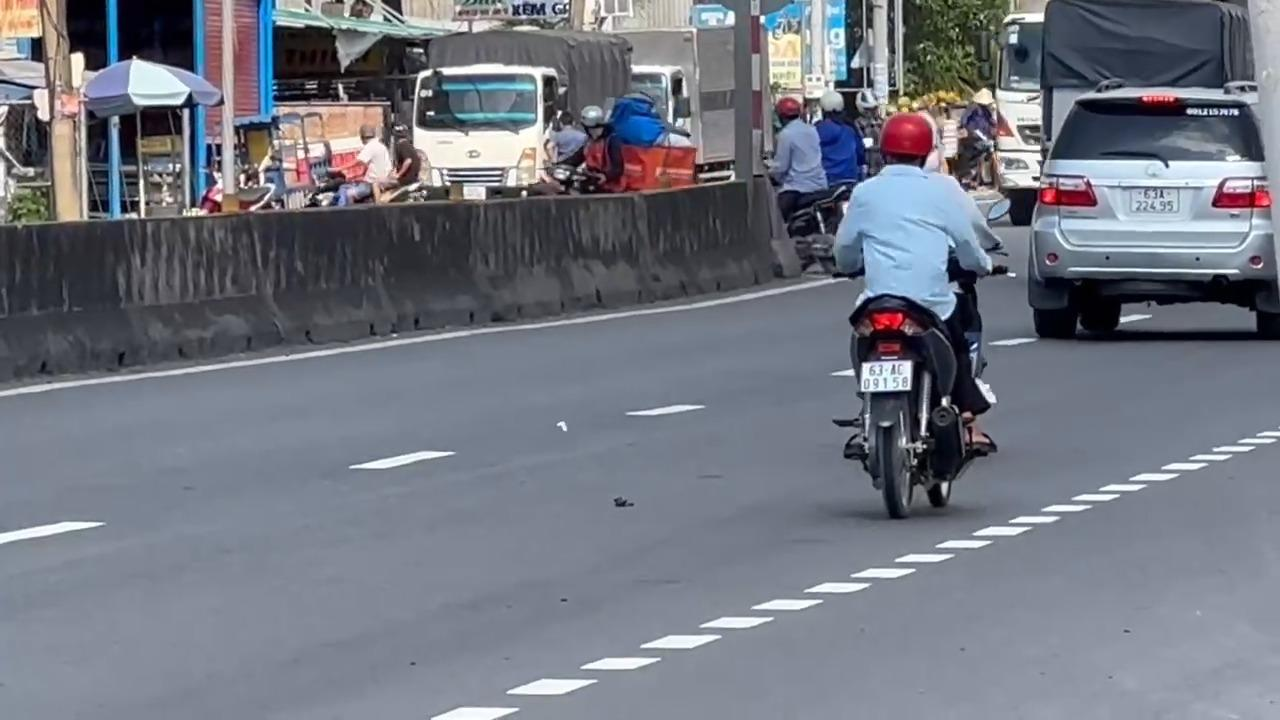bien_so: (858, 359, 913, 392), (1126, 186, 1181, 215)
